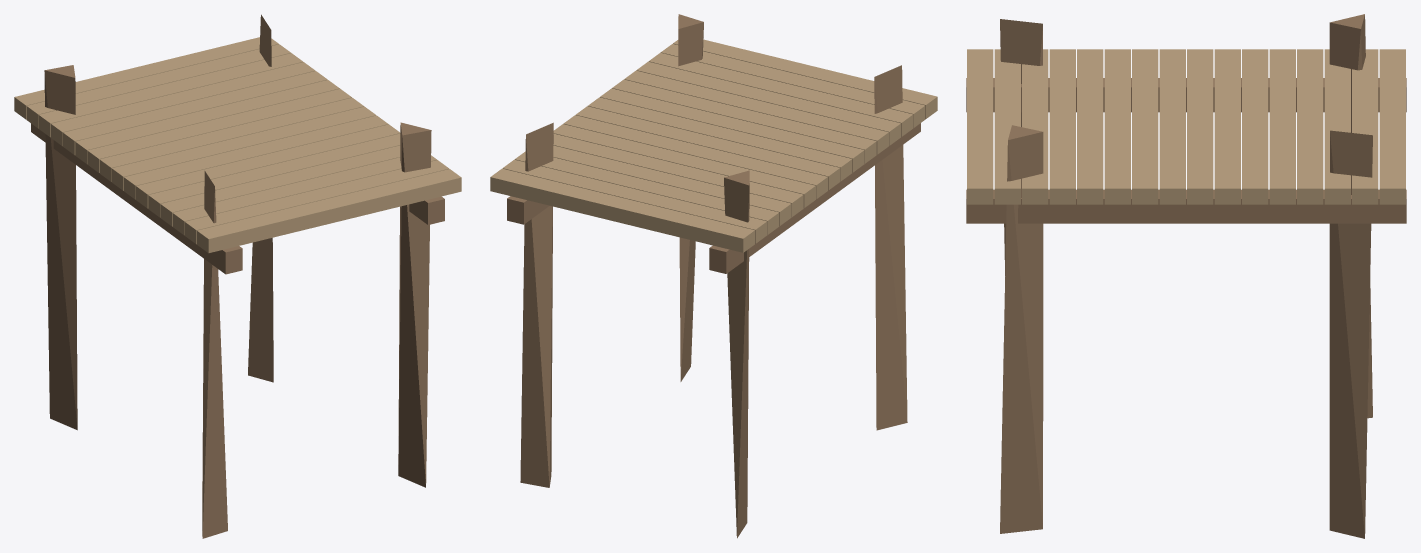
The model's file is harbor.pier.lod2.glb.
The picture shows the model from 3 angles, left to right: view 1: azimuth 30°, elevation 25°; view 2: azimuth 150°, elevation 25°; view 3: azimuth 270°, elevation 25°; orthographic projection. The views are drawn at different scales.
Visible parts, largest first — view 1: Piling.001, Piling.002, DeckPlank, Piling, Piling.003, DeckPlank.008, DeckPlank.007, DeckPlank.009, DeckPlank.010, DeckPlank.011, DeckPlank.012, DeckPlank.006 (+10 smaller); view 2: Piling, Piling.003, DeckPlank.015, Piling.001, DeckPlank.006, DeckPlank.007, DeckPlank.004, DeckPlank.005, DeckPlank.008, DeckPlank.009, DeckPlank.003, DeckPlank.010 (+10 smaller); view 3: Piling.002, Piling.003, Bearer.001, DeckPlank, DeckPlank.003, DeckPlank.004, DeckPlank.005, DeckPlank.006, DeckPlank.007, DeckPlank.008, DeckPlank.009, DeckPlank.010 (+10 smaller).
Part boxes in pixels (x1,y1,x2,y2): Piling.001: (44, 65, 77, 430); Piling.002: (398, 122, 431, 487); DeckPlank: (197, 169, 461, 253); Piling: (202, 171, 227, 538); Piling.003: (248, 14, 273, 382); DeckPlank.008: (99, 97, 364, 181); DeckPlank.007: (111, 106, 376, 190); DeckPlank.009: (87, 88, 351, 172); DeckPlank.010: (75, 80, 339, 163); DeckPlank.011: (63, 71, 327, 154); DeckPlank.012: (51, 62, 315, 146); DeckPlank.006: (124, 115, 388, 199); Piling: (874, 65, 907, 430); Piling.003: (520, 122, 553, 487); DeckPlank.015: (490, 168, 754, 252); Piling.001: (724, 170, 749, 538); DeckPlank.006: (600, 88, 864, 172); DeckPlank.007: (588, 97, 852, 181); DeckPlank.004: (624, 70, 888, 154); DeckPlank.005: (612, 79, 876, 163); DeckPlank.008: (576, 106, 840, 190); DeckPlank.009: (563, 115, 827, 199); DeckPlank.003: (636, 61, 900, 145); DeckPlank.010: (553, 124, 815, 208); Piling.002: (1000, 125, 1043, 533); Piling.003: (1329, 130, 1372, 538); Bearer.001: (966, 189, 1406, 223); DeckPlank: (967, 49, 993, 204); DeckPlank.003: (1049, 49, 1075, 204); DeckPlank.004: (1077, 49, 1103, 204); DeckPlank.005: (1104, 49, 1130, 204); DeckPlank.006: (1132, 49, 1158, 204); DeckPlank.007: (1159, 49, 1185, 204); DeckPlank.008: (1187, 49, 1213, 204); DeckPlank.009: (1214, 49, 1240, 204); DeckPlank.010: (1242, 49, 1268, 204).
Size of the model in its own units: 3 by 4 by 4.
